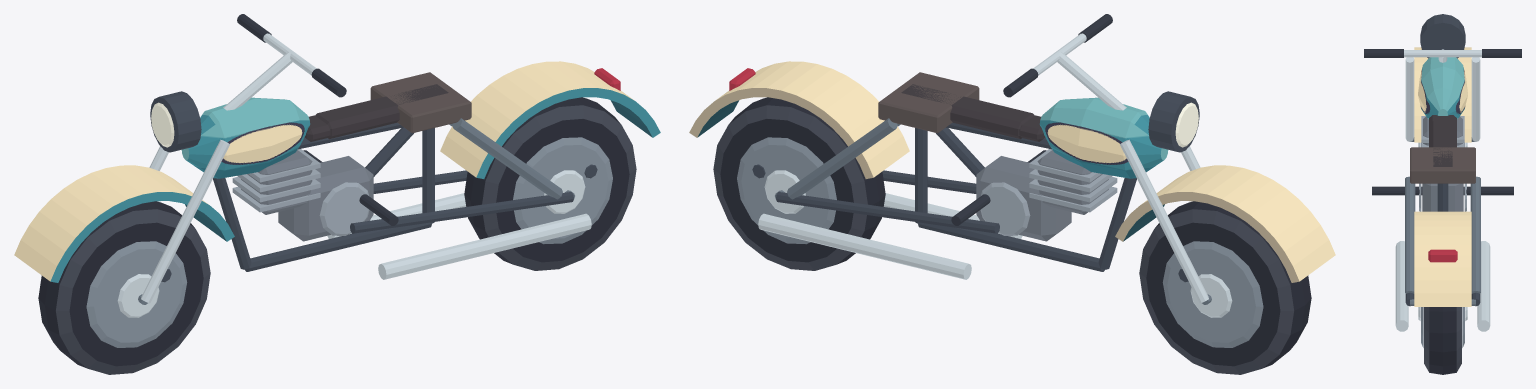
3 views of the same model, side by side, from view 1: azimuth 30°, elevation 25°; view 2: azimuth 150°, elevation 25°; view 3: azimuth 270°, elevation 25° (orthographic). The views are drawn at different scales.
Visible parts, largest first — view 1: Body_static, Wheel_F_tire_hub, Wheel_R_tire_hub; view 2: Body_static, Wheel_F_tire_hub, Wheel_R_tire_hub; view 3: Body_static, Wheel_R_tire_hub.
Part boxes in pixels (x1,y1,x2,y2): Body_static: (14, 14, 660, 304); Wheel_F_tire_hub: (38, 201, 210, 374); Wheel_R_tire_hub: (464, 97, 636, 270); Body_static: (689, 14, 1335, 304); Wheel_F_tire_hub: (1139, 201, 1311, 374); Wheel_R_tire_hub: (713, 97, 885, 270); Body_static: (1364, 14, 1521, 331); Wheel_R_tire_hub: (1418, 307, 1467, 374).
Size of the model in its own units: 55.84 by 24.29 by 15.83.
1 material, 1 textured.
